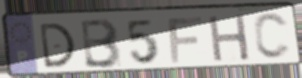5: (127, 18, 162, 66)
B: (80, 17, 124, 70)
C: (252, 11, 293, 62)
D: (37, 21, 77, 71)
F: (166, 15, 205, 65)
H: (206, 12, 252, 64)
